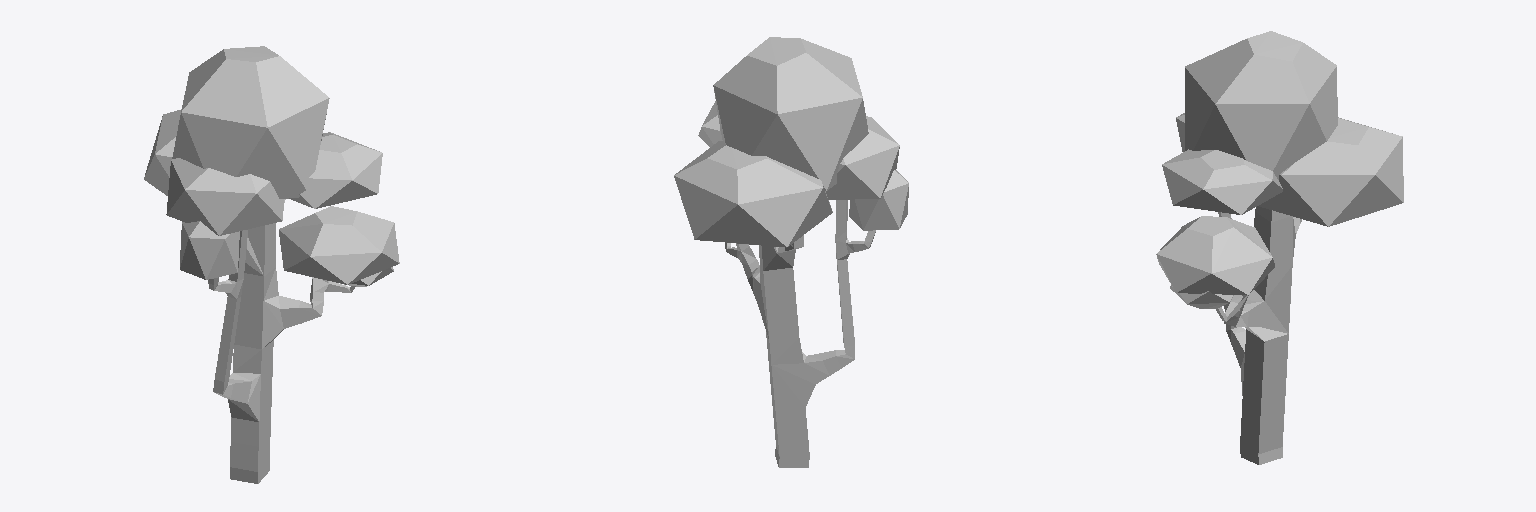
Rendered from Tree5.obj.
The picture shows the model from 3 angles: view 1: azimuth 30°, elevation 25°; view 2: azimuth 150°, elevation 25°; view 3: azimuth 270°, elevation 25°; orthographic projection.
Visible parts, largest first — view 1: Icosphere.019, Cube.005, Icosphere.022, Icosphere.020, Icosphere.021, Icosphere.024, Icosphere.025; view 2: Icosphere.019, Cube.005, Icosphere.025, Icosphere.020, Icosphere.024, Icosphere.021; view 3: Icosphere.019, Cube.005, Icosphere.025, Icosphere.022, Icosphere.021, Icosphere.023.
Boxes of the visible parts, x1,y1,x2,y2 form: Icosphere.019: [172, 46, 329, 198]; Cube.005: [208, 223, 355, 483]; Icosphere.022: [279, 206, 399, 284]; Icosphere.020: [166, 158, 283, 235]; Icosphere.021: [289, 132, 382, 208]; Icosphere.024: [180, 221, 239, 279]; Icosphere.025: [144, 109, 285, 202]; Icosphere.019: [713, 37, 868, 190]; Cube.005: [725, 200, 875, 467]; Icosphere.025: [674, 141, 832, 247]; Icosphere.020: [826, 116, 899, 199]; Icosphere.024: [849, 170, 908, 230]; Icosphere.021: [698, 101, 722, 146]; Icosphere.019: [1185, 31, 1337, 179]; Cube.005: [1216, 206, 1301, 464]; Icosphere.025: [1259, 117, 1403, 226]; Icosphere.022: [1156, 216, 1274, 294]; Icosphere.021: [1162, 149, 1282, 214]; Icosphere.023: [1170, 285, 1232, 308].
Size of the model in its own units: 2.68 by 5.16 by 2.76.